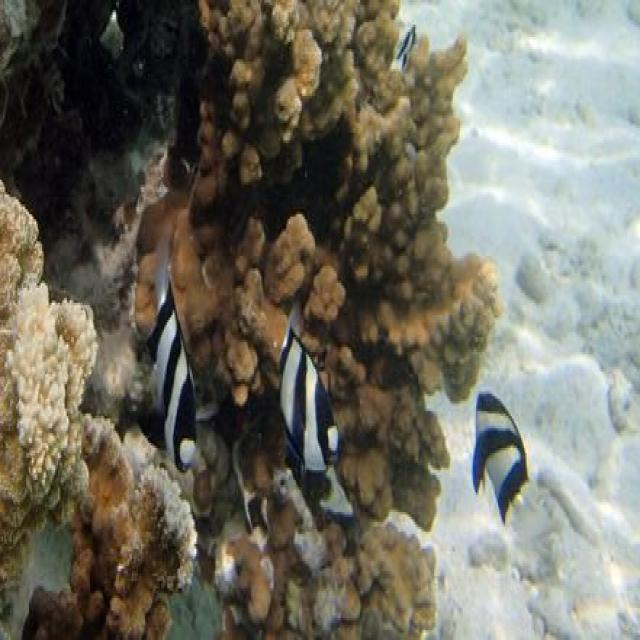Three_striped DasmselFish: (273, 298, 343, 476), (151, 262, 203, 477), (472, 380, 532, 521)
